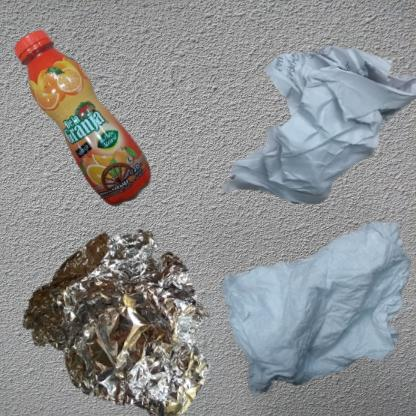aluminio: (10, 213, 233, 416)
botella: (10, 10, 188, 269)
papel: (213, 10, 416, 278), (213, 213, 416, 413)
